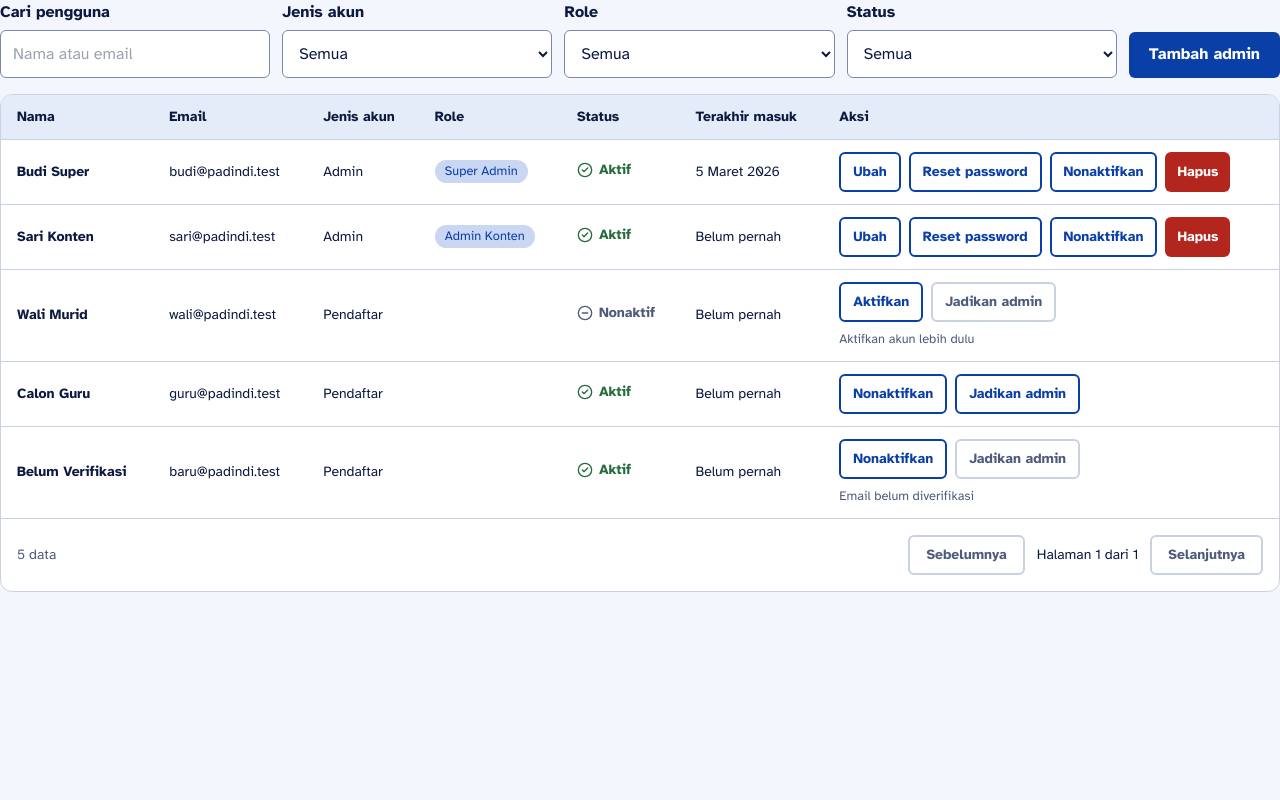
UsersTab — aksi per baris › Nonaktifkan dikonfirmasi: PATCH is_active=false
This screenshot has width=1280, height=800.
Click the button "Nonaktifkan" in the row of "Sari Konten".
click(1103, 237)  # box [1050,217,1157,257]
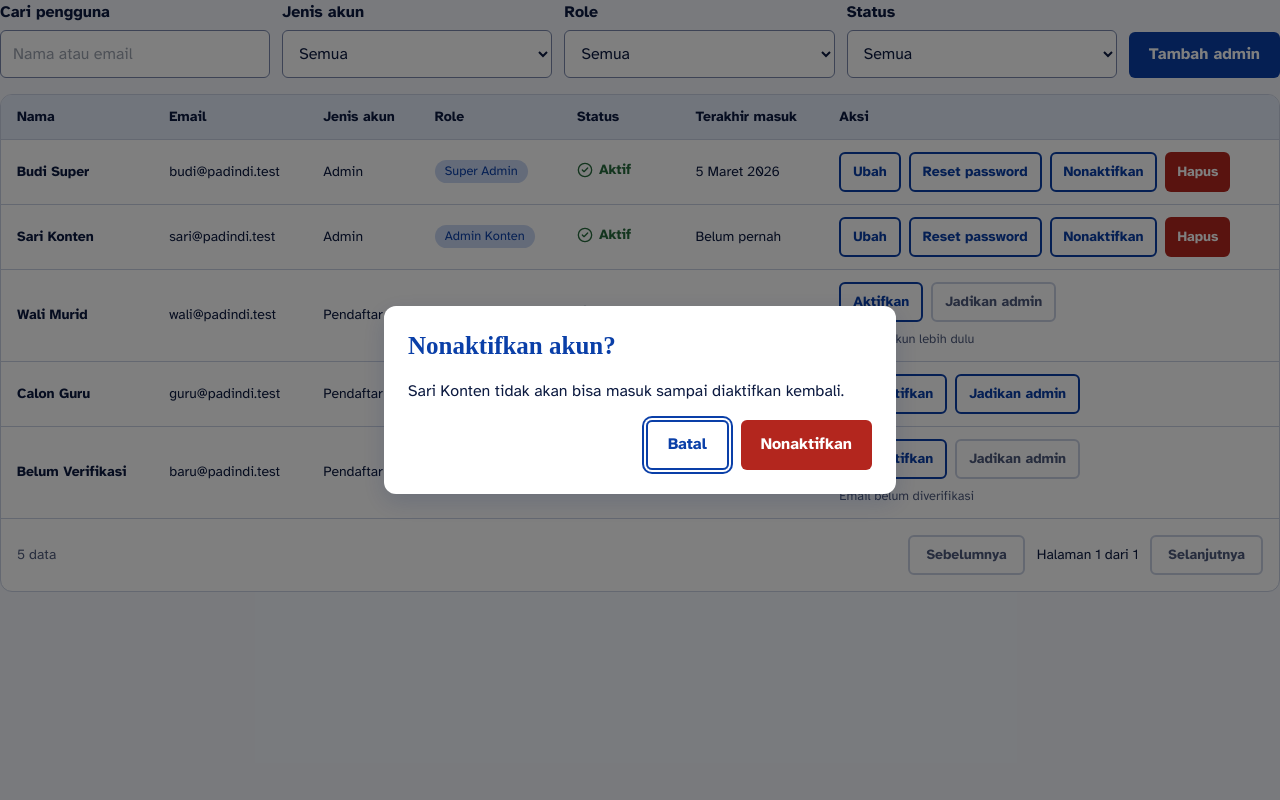
Click the button "Nonaktifkan".
click(806, 445)  # box [741,420,872,470]
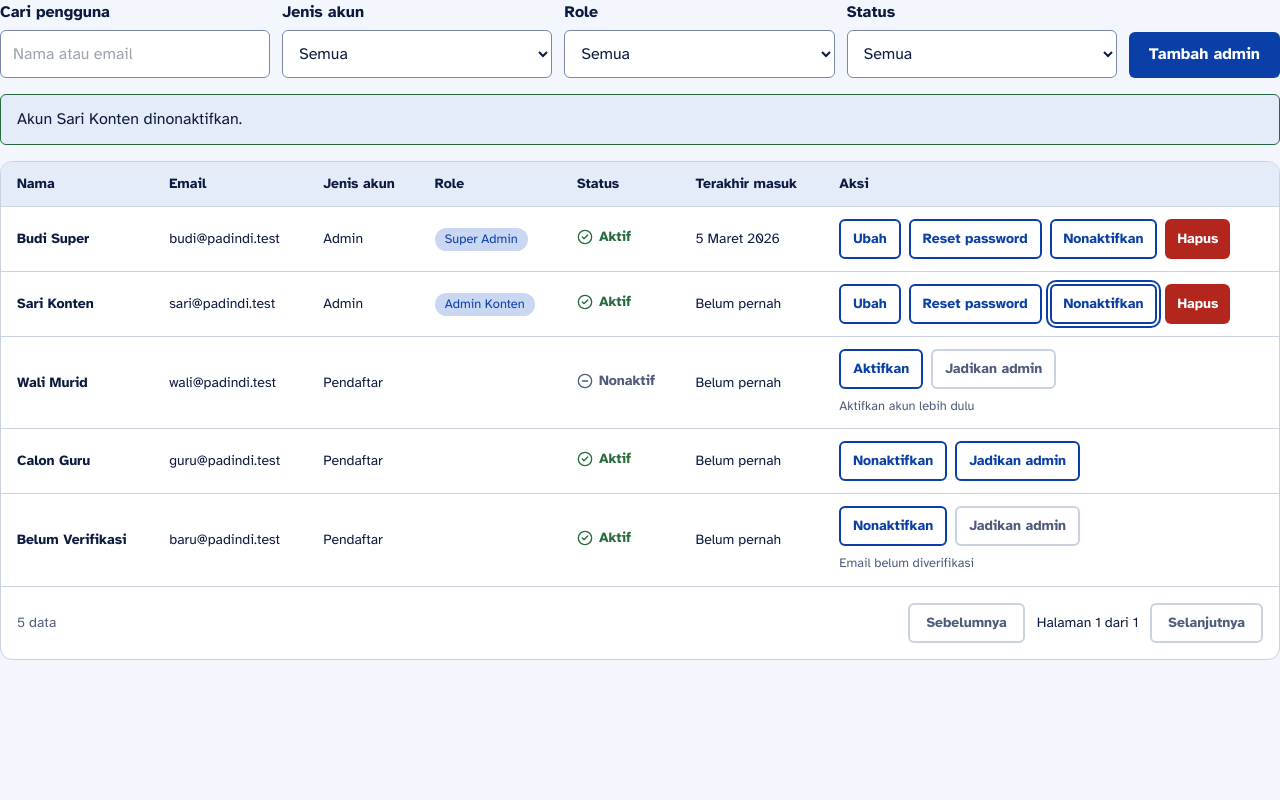
expect the dialog is gone: met
